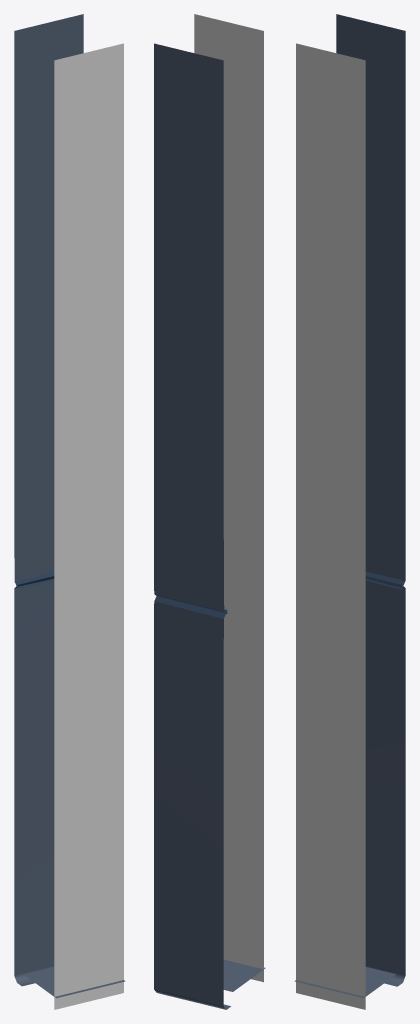
3 views of the same model, side by side, from view 1: azimuth 30°, elevation 25°; view 2: azimuth 150°, elevation 25°; view 3: azimuth 330°, elevation 25° (orthographic).
Parts seen in each view (by area): view 1: 0BFC31FB47803FC4409BFE9174EE4377; view 2: 0BFC31FB47803FC4409BFE9174EE4377; view 3: 0BFC31FB47803FC4409BFE9174EE4377.
Part boxes in pixels (box(x1,y1,x2,y2)): 0BFC31FB47803FC4409BFE9174EE4377: box(14, 14, 125, 1009); 0BFC31FB47803FC4409BFE9174EE4377: box(154, 14, 265, 1009); 0BFC31FB47803FC4409BFE9174EE4377: box(294, 14, 405, 1009).
Size of the model in its own units: 8.28 by 7.92 by 103.
